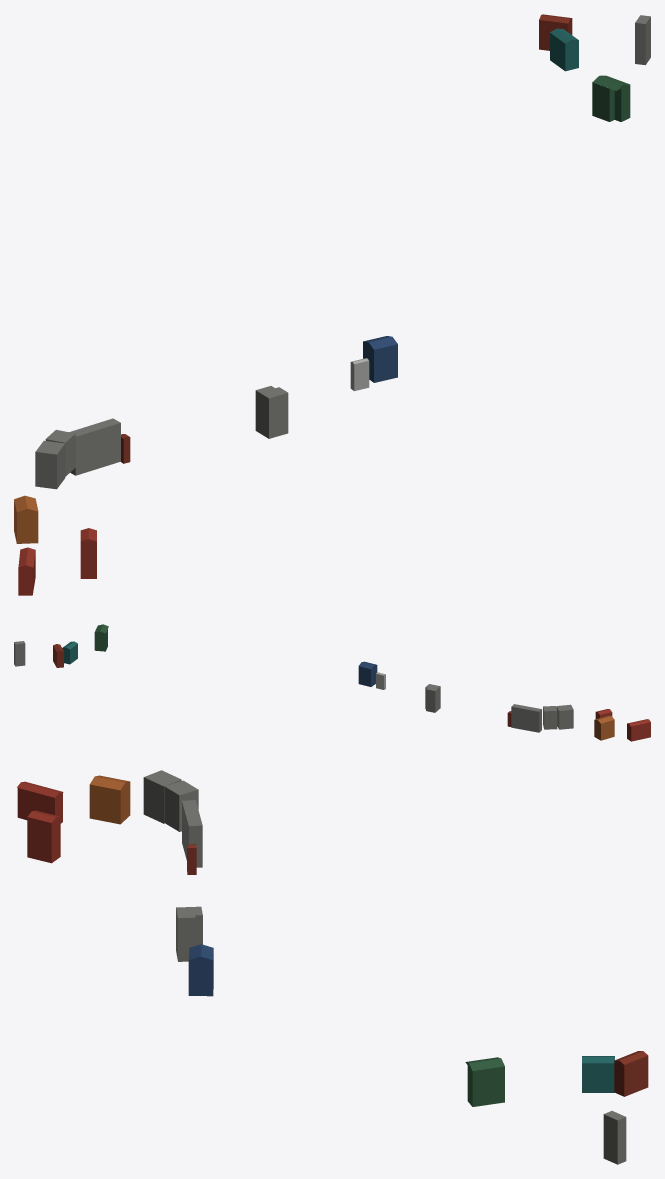
The model's file is near-15-27370-14858.d82db89a.glb.
3 renders of one model, top to bottom at view 1: azimuth 30°, elevation 25°; view 2: azimuth 150°, elevation 25°; view 3: azimuth 270°, elevation 25°, orthographic. The views are drawn at different scales.
Bounding box in the file's own units: 626 × 116 × 350.
